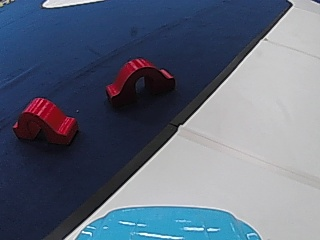bridge: (101, 53, 177, 108), (11, 94, 83, 145)
